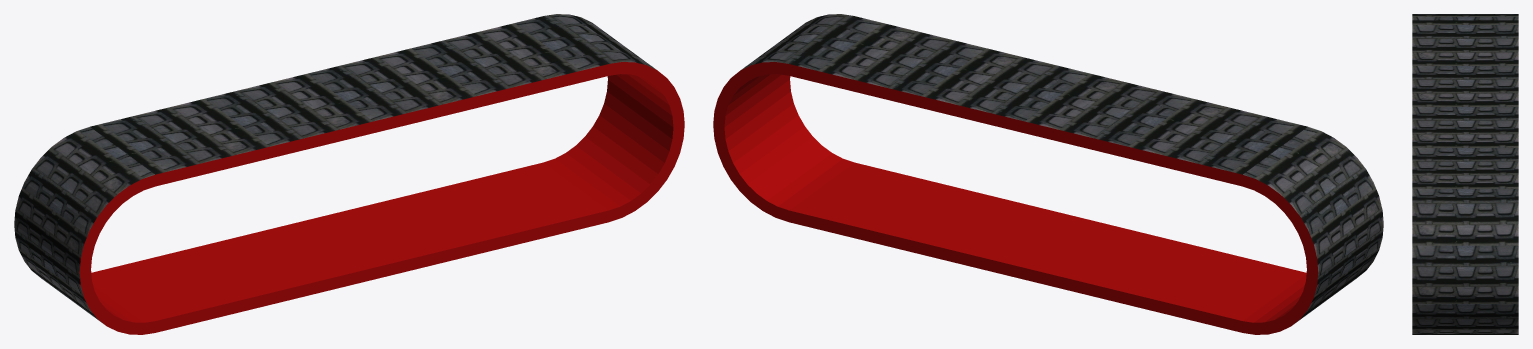
The model's file is SM_Robot_Tread.fbx.
The picture shows the model from 3 angles, left to right: view 1: azimuth 30°, elevation 25°; view 2: azimuth 150°, elevation 25°; view 3: azimuth 270°, elevation 25°; orthographic projection. The views are drawn at different scales.
Parts seen in each view (by area): view 1: transform1; view 2: transform1; view 3: transform1.
Part boxes in pixels (<box>): transform1: <box>14,14,684,334</box>; transform1: <box>713,14,1383,334</box>; transform1: <box>1412,14,1518,334</box>.
Bounding box in the file's own units: 16 × 4 × 3.
Materials: 2 (1 with a texture image).
